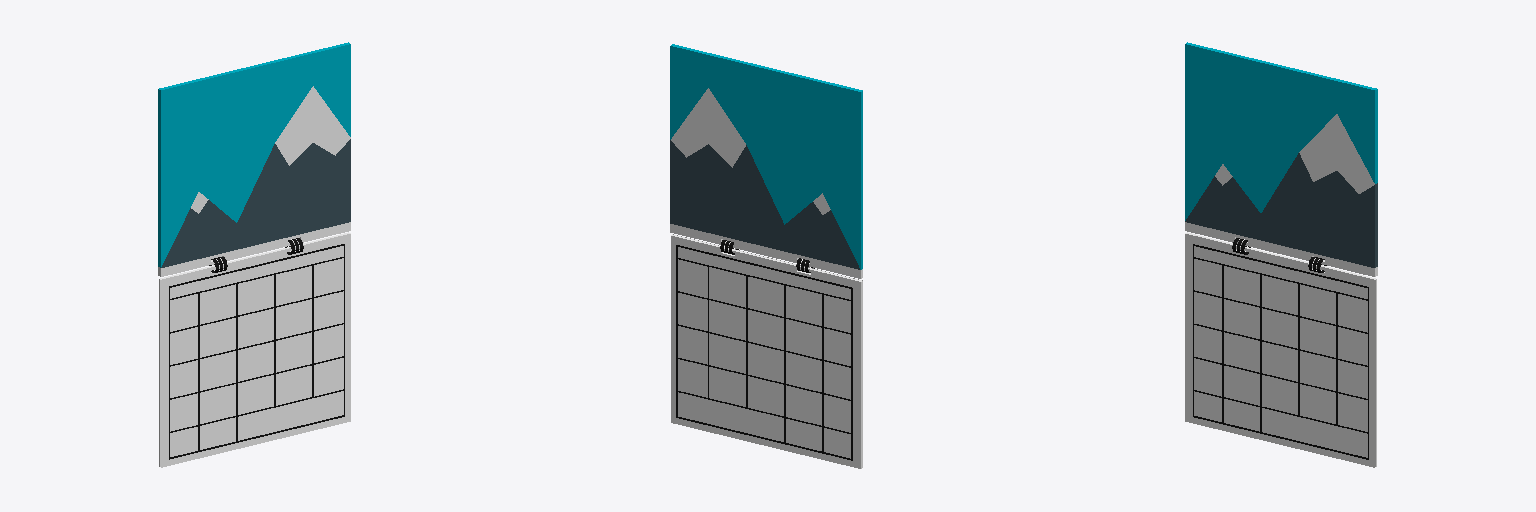
The model's file is Calender_01.obj.
3 views of the same model, side by side, from view 1: azimuth 30°, elevation 25°; view 2: azimuth 150°, elevation 25°; view 3: azimuth 330°, elevation 25° (orthographic).
Parts seen in each view (by area): view 1: Calender_01_Plane.003; view 2: Calender_01_Plane.003; view 3: Calender_01_Plane.003.
Boxes of the visible parts, box(x1,y1,x2,y2) form: Calender_01_Plane.003: box(158, 42, 350, 467); Calender_01_Plane.003: box(670, 44, 862, 468); Calender_01_Plane.003: box(1185, 42, 1377, 467).
Size of the model in its own units: 10 by 18.94 by 0.6918.